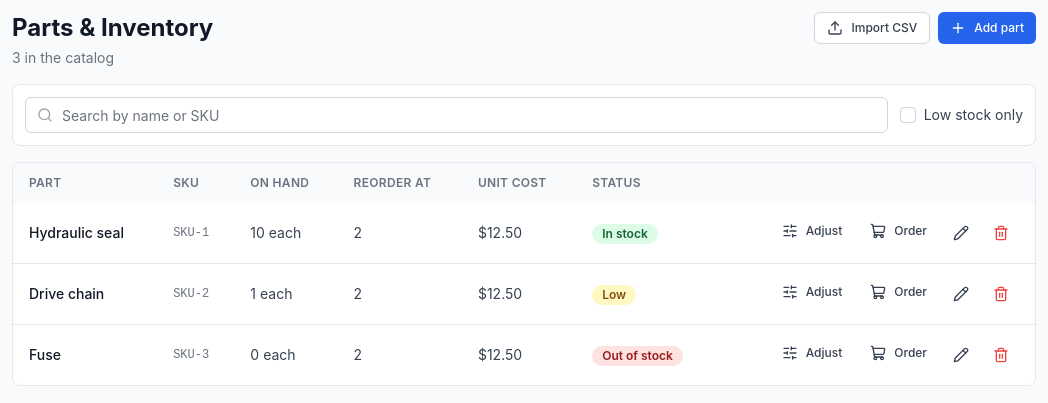
PartsPage › can show just the parts to reorder
Expected: the text "Hydraulic seal" is shown, top-left (13, 203), bottom-right (157, 264)
Click the checkbox labelled "Low stock only": (908, 115) top-left (900, 107), bottom-right (916, 123)
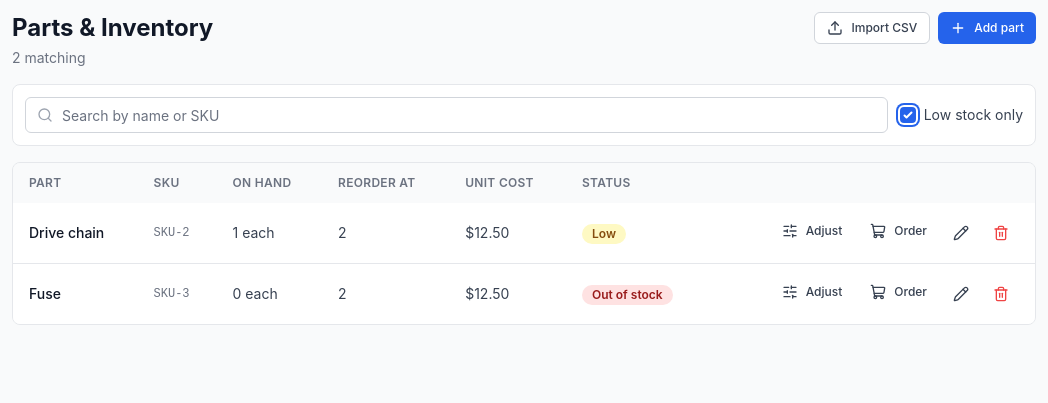
Expected: the text "Drive chain" is shown, top-left (13, 203), bottom-right (138, 264)
Expected: the text "Hydraulic seal" is gone
